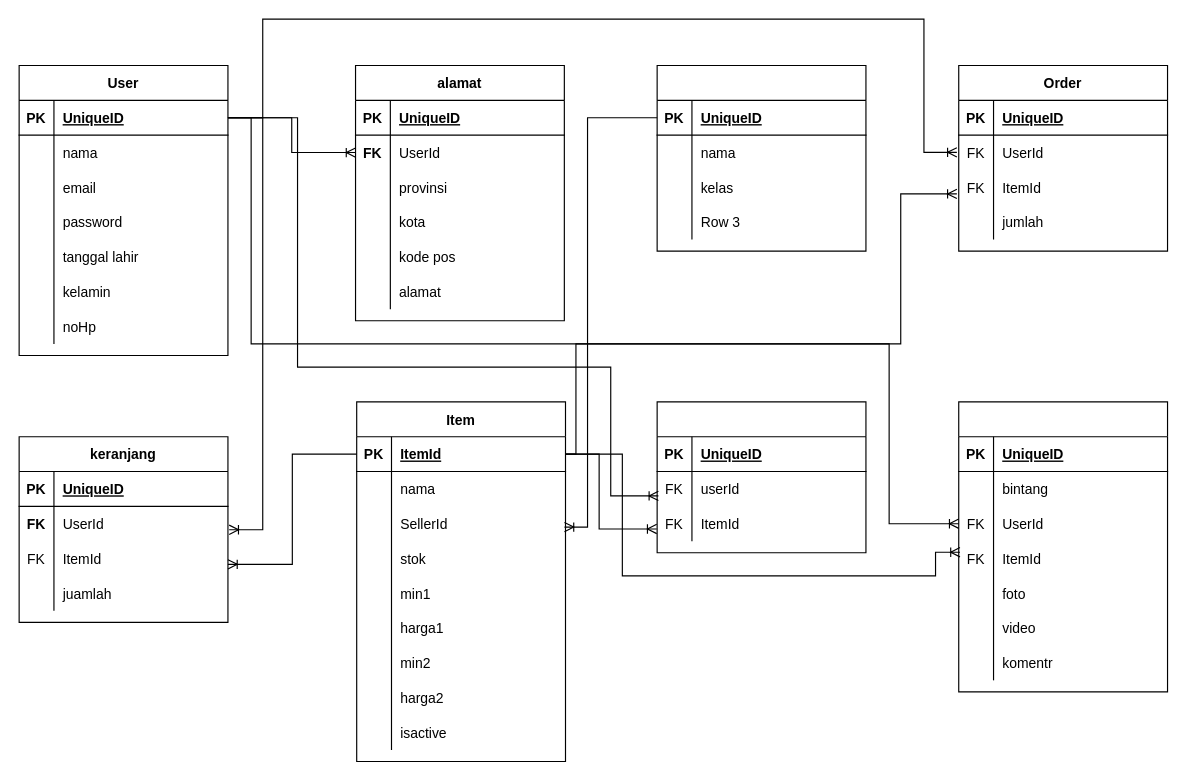
Some shapes in this 1187 by 781 pixel diagram are drawn without their labels. The box of each missing label's shape, as (x1, y1, x2, y2) in pixels:
Seller: (656, 64, 866, 251)
Ulasan: (958, 401, 1168, 692)
widhlist: (656, 401, 866, 553)
